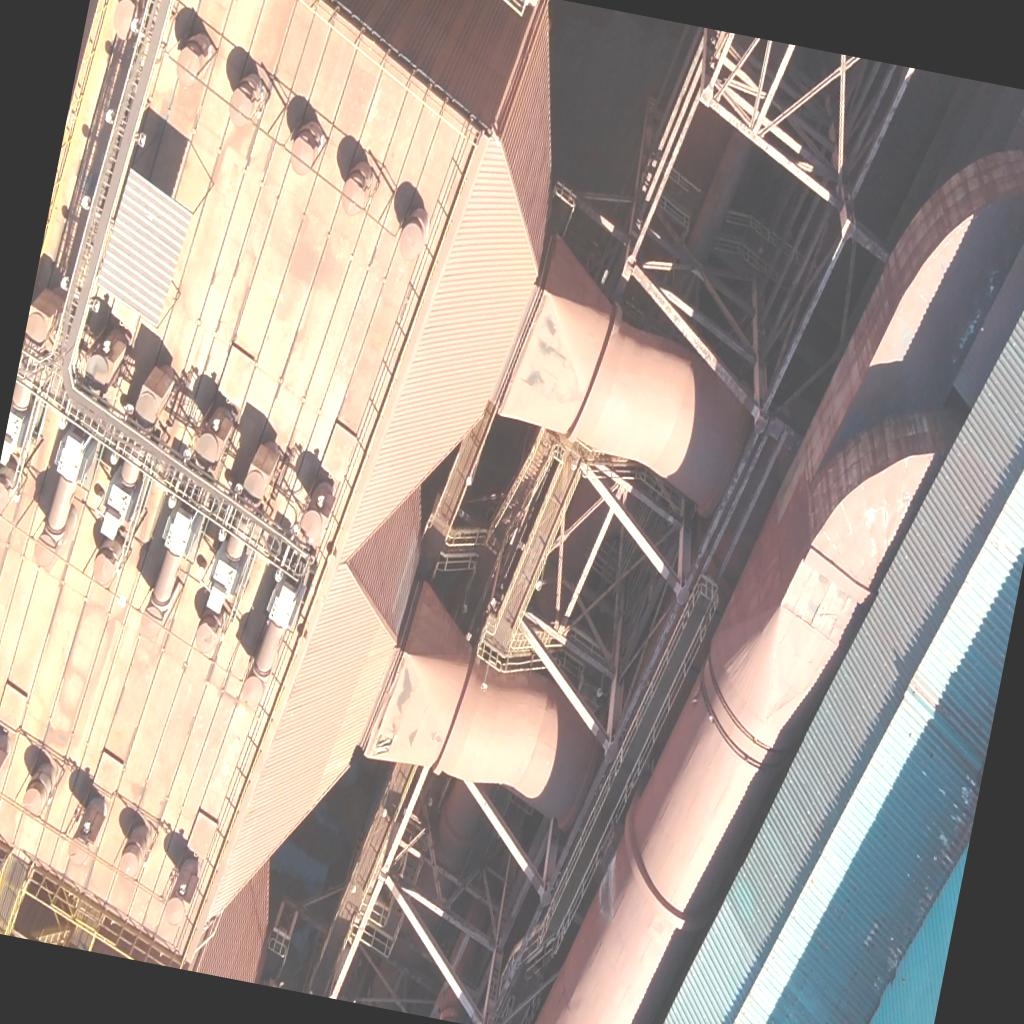Failures: (372, 734, 392, 761)
